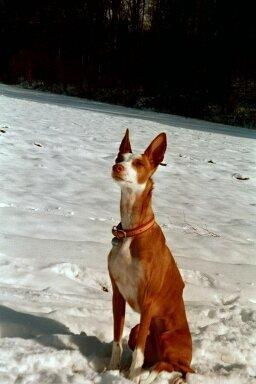Ibizan_hound: (107, 123, 194, 377)
